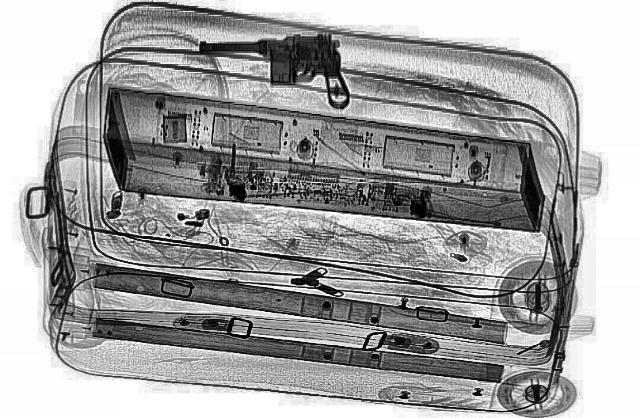Gun: (196, 30, 354, 116)
